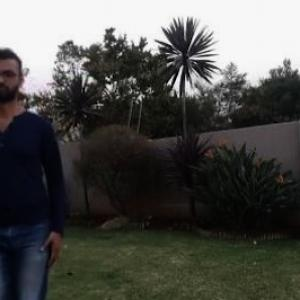follow: (1, 64, 61, 299)
